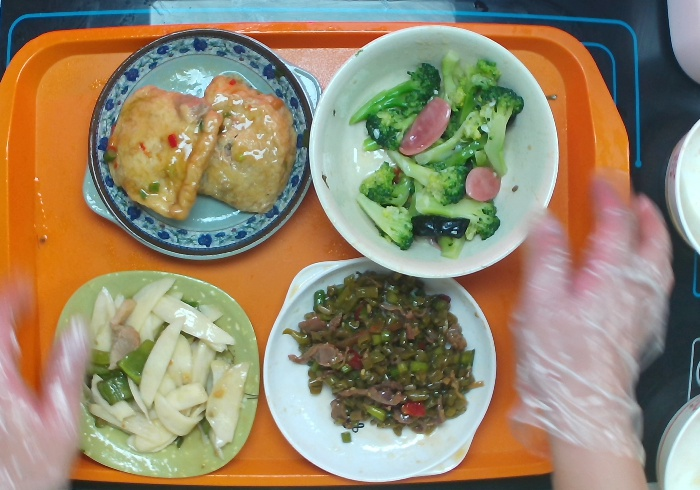NLDX-Bai_Se_Shuang_Er_Die: (259, 254, 501, 485)
NLDX-Bai_Se_Yuan_Wan: (304, 20, 566, 282)
NLDX-Lv_Hua_Fang_Die: (45, 267, 263, 482)
NLDX-Qing_Hua_Shuang_Er_Die: (77, 24, 324, 267)
